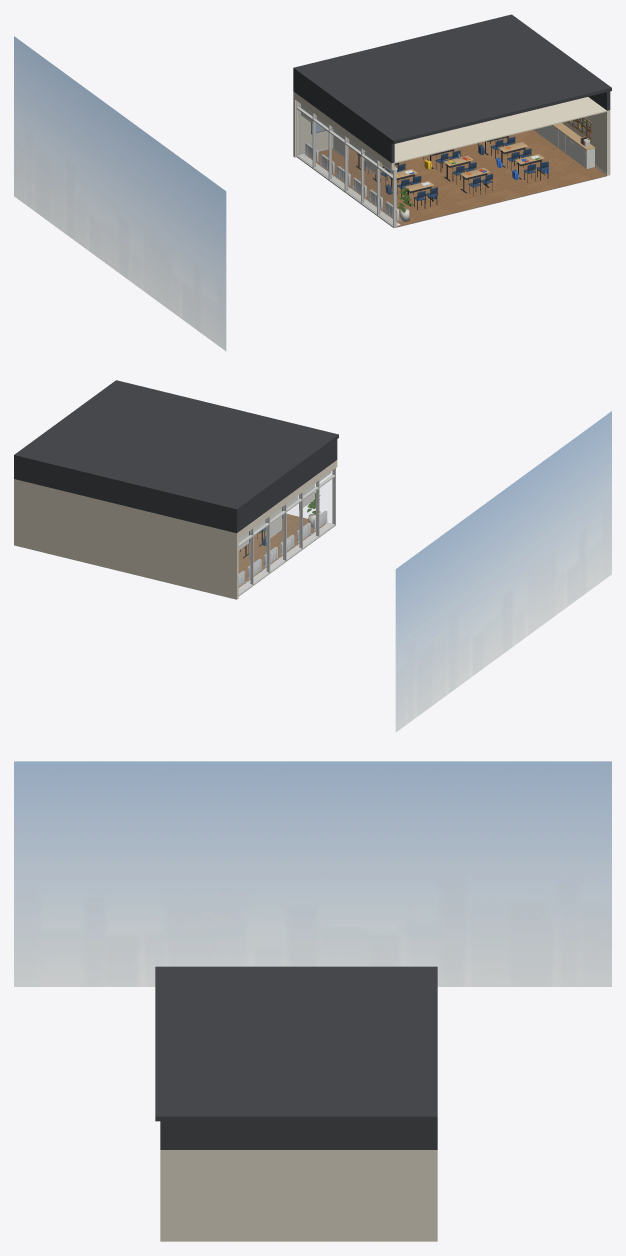
File: school.glb
3 views of the same model, one above another, from view 1: azimuth 30°, elevation 25°; view 2: azimuth 150°, elevation 25°; view 3: azimuth 270°, elevation 25° (orthographic). The views are drawn at different scales.
Visible parts, largest first — view 1: city, slab, room, glass, classroom_desks, windows, cabinets, radiators; view 2: city, slab, room, glass, windows, radiators; view 3: city, slab, room.
Boxes of the visible parts, x1=… form: city: x1=14, y1=36, x2=226, y2=351; slab: x1=293, y1=14, x2=611, y2=162; room: x1=293, y1=91, x2=610, y2=227; glass: x1=298, y1=103, x2=392, y2=223; classroom_desks: x1=356, y1=136, x2=548, y2=209; windows: x1=296, y1=101, x2=400, y2=227; cabinets: x1=533, y1=123, x2=595, y2=168; radiators: x1=304, y1=142, x2=398, y2=223; city: x1=395, y1=411, x2=611, y2=732; slab: x1=14, y1=380, x2=338, y2=533; room: x1=14, y1=460, x2=337, y2=599; glass: x1=239, y1=470, x2=333, y2=592; windows: x1=238, y1=468, x2=335, y2=596; radiators: x1=238, y1=510, x2=327, y2=586; city: x1=14, y1=761, x2=611, y2=986; slab: x1=155, y1=966, x2=437, y2=1149; room: x1=160, y1=1150, x2=437, y2=1241.
Size of the model in its own units: 21.35 by 7.5 by 18.
54 materials, 7 textured.
